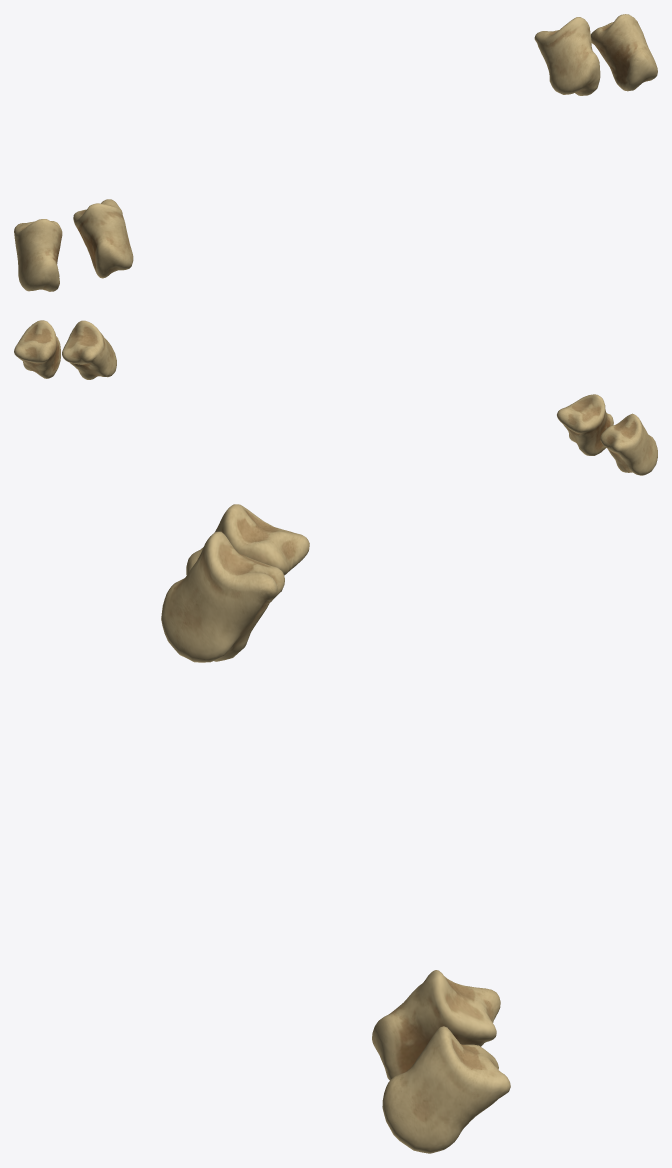
Rendered from Middle_Phalanges.glb.
3 views of the same model, one above another, from view 1: azimuth 30°, elevation 25°; view 2: azimuth 150°, elevation 25°; view 3: azimuth 270°, elevation 25° (orthographic). The views are drawn at different scales.
Visible parts, largest first — view 1: Group46509.001; view 2: Group46509.001; view 3: Group46509.001.
Part boxes in pixels (x1=…): Group46509.001: x1=14, y1=14, x2=657, y2=291; Group46509.001: x1=14, y1=320, x2=657, y2=475; Group46509.001: x1=161, y1=504, x2=510, y2=1153.
Size of the model in its own units: 351 by 40.18 by 92.15.
Materials: 1 (1 with a texture image).
